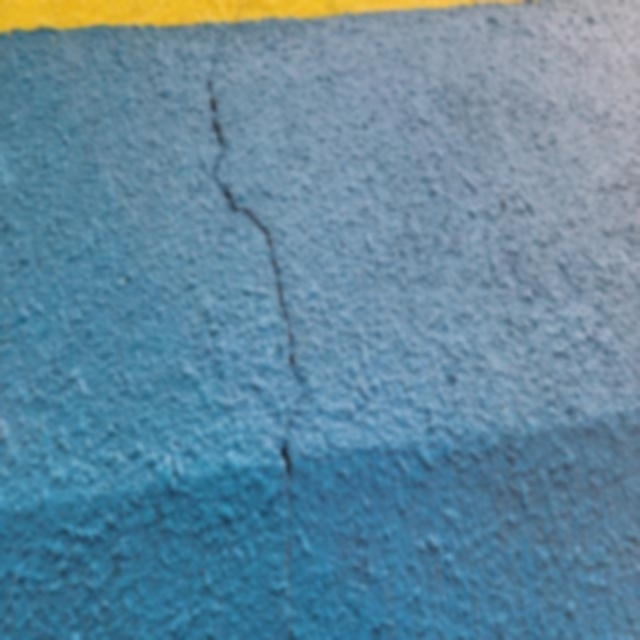SurfaceCrack: (157, 25, 343, 640)
